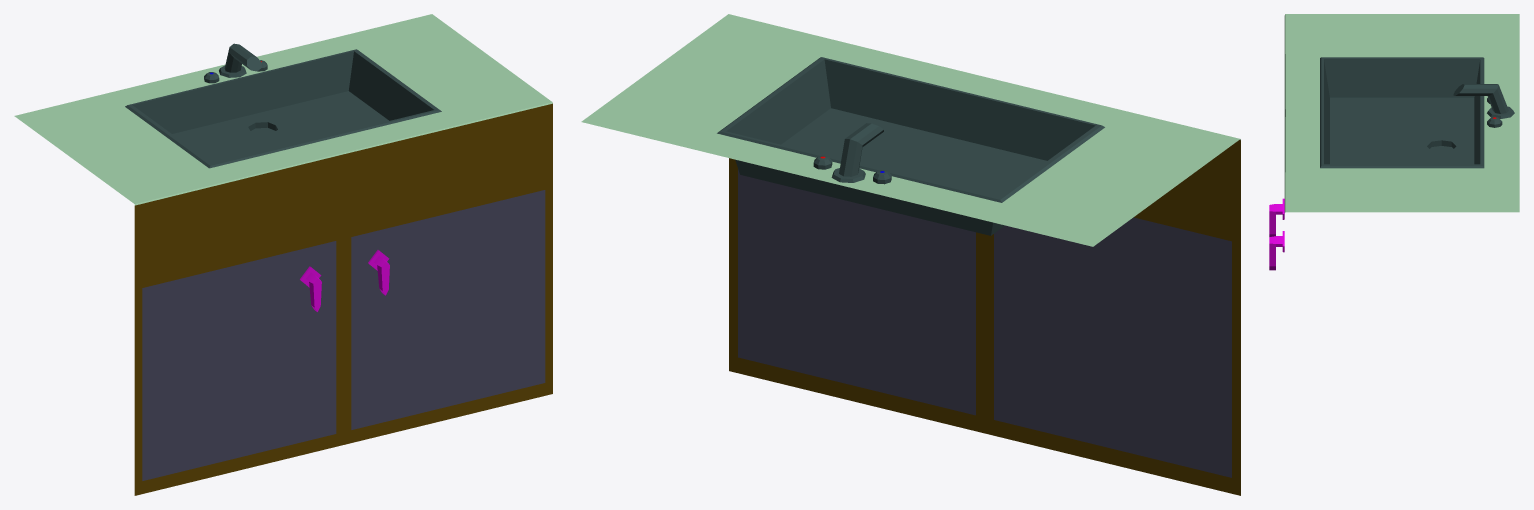
File: pila.fbx
The picture shows the model from 3 angles, left to right: view 1: azimuth 30°, elevation 25°; view 2: azimuth 150°, elevation 25°; view 3: azimuth 270°, elevation 25°; orthographic projection. The views are drawn at different scales.
Visible parts, largest first — view 1: Pila; view 2: Pila; view 3: Pila.
Part boxes in pixels (x1,y1,x2,y2): Pila: [14, 14, 552, 495]; Pila: [581, 14, 1240, 495]; Pila: [1269, 14, 1519, 270].
Size of the model in its own units: 150 by 110 by 79.89.
